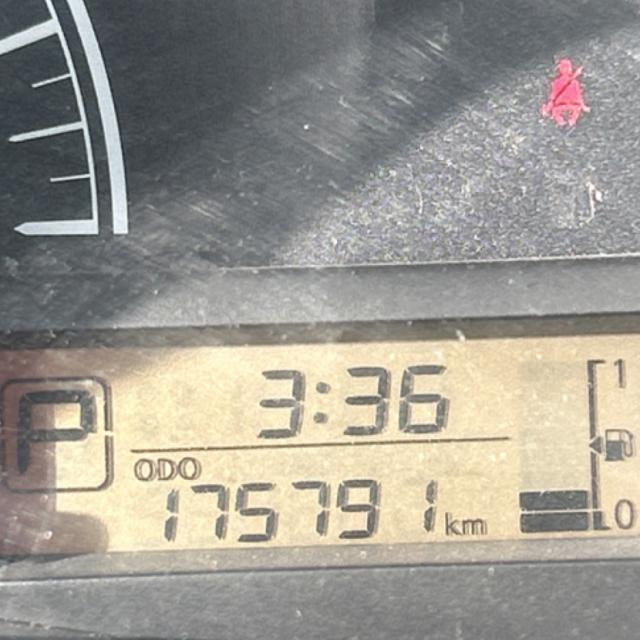Seat Belt: (532, 41, 601, 142)
